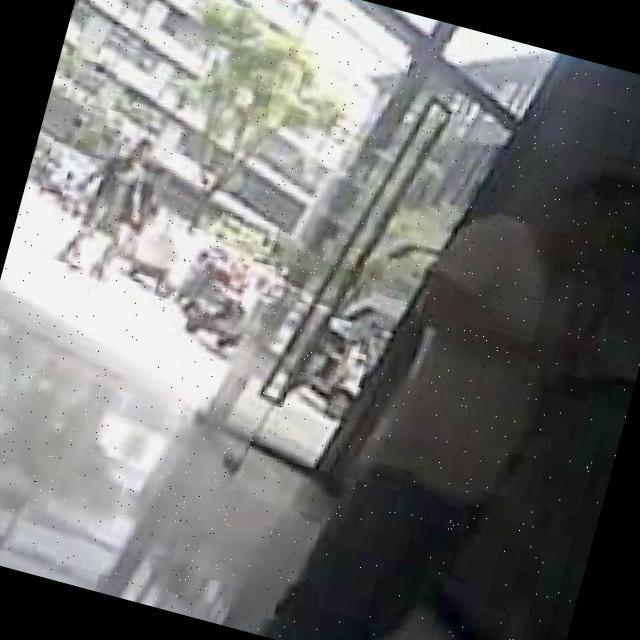person: (258, 119, 640, 640), (51, 115, 162, 288), (88, 154, 172, 290)
